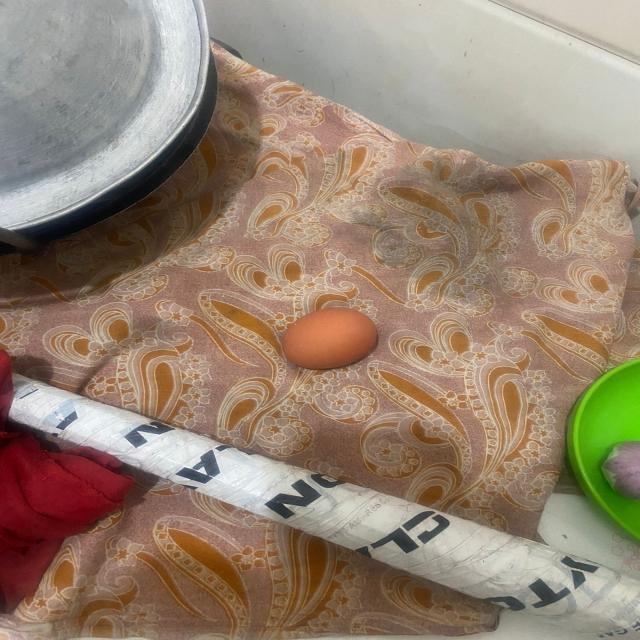egg: (281, 305, 380, 372)
